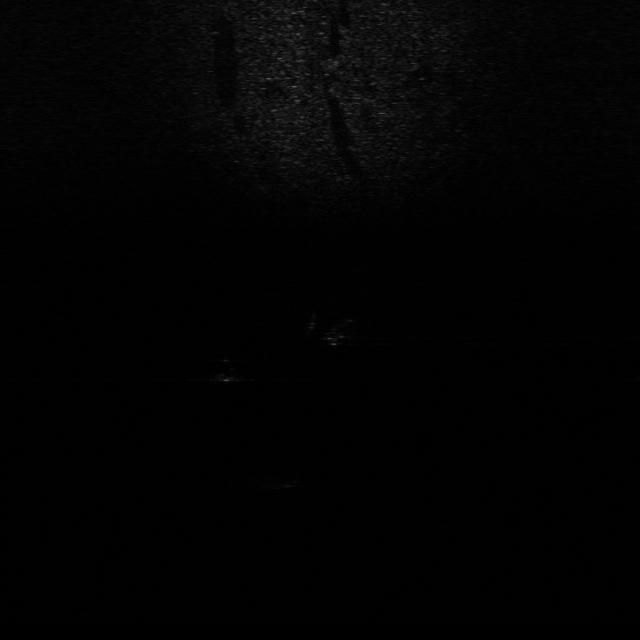ball: (214, 357, 248, 385)
human body: (301, 308, 367, 348), (253, 468, 304, 492)
